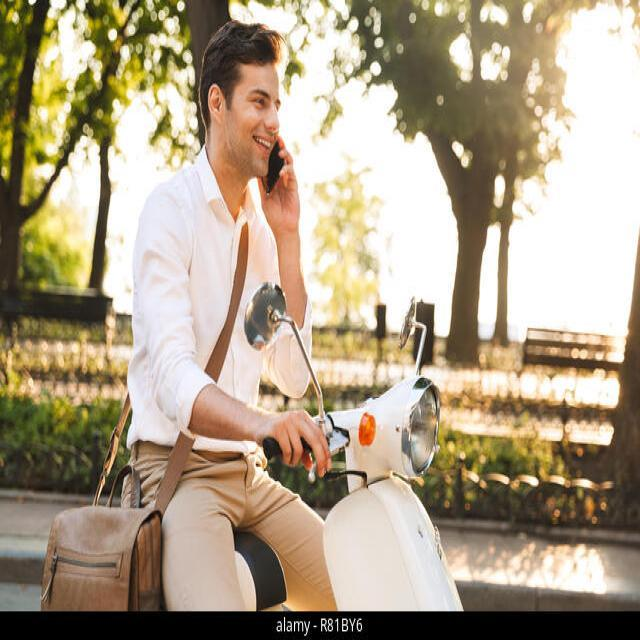Using mobile: (176, 11, 313, 302)
